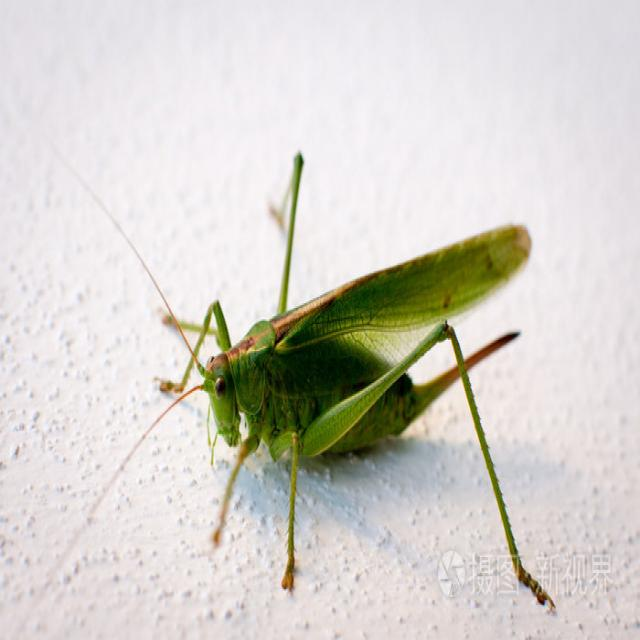ZhaMeng: (132, 164, 572, 589)
